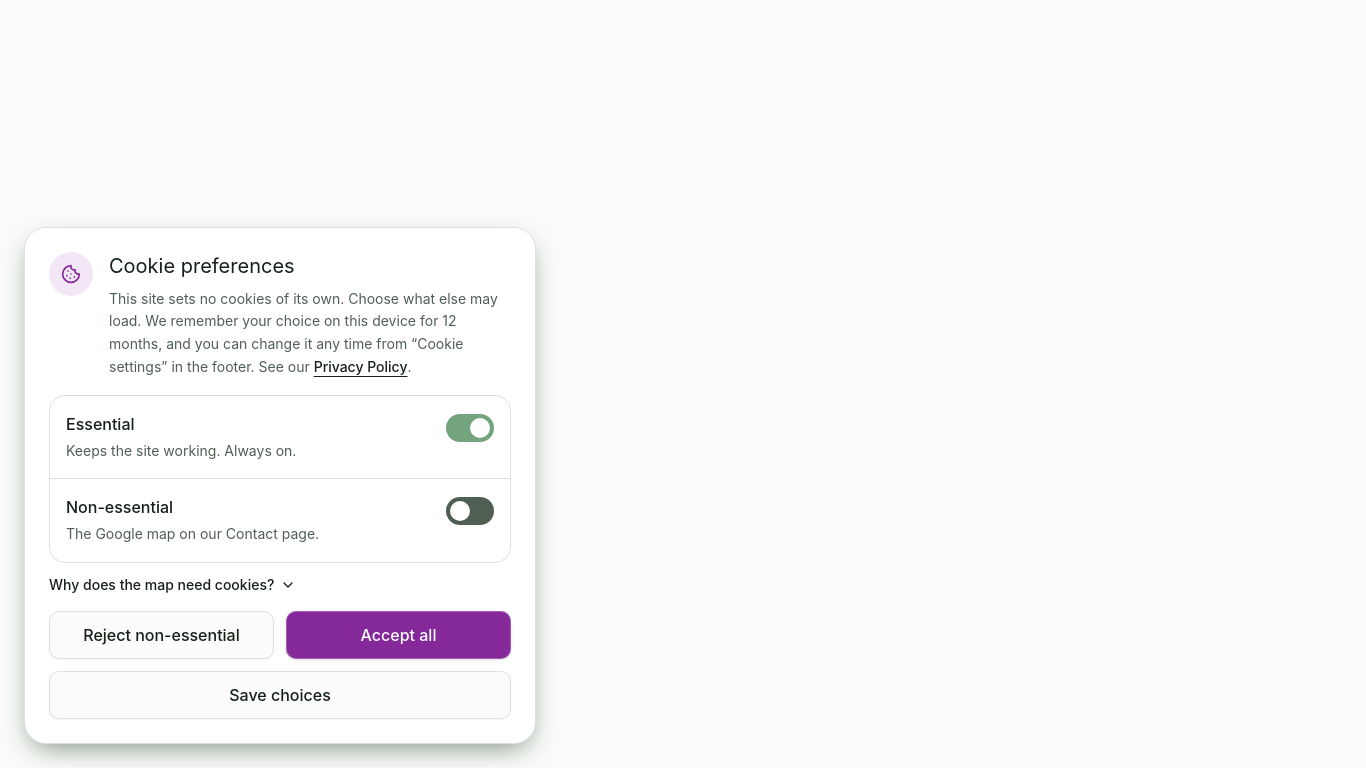
Scenario: CookieBanner › shows the Google map reasoning when Non-essential is turned on
The image size is (1366, 768).
Click the 2nd switch named "Non-essential".
click(470, 511)  # box [446,497,494,525]
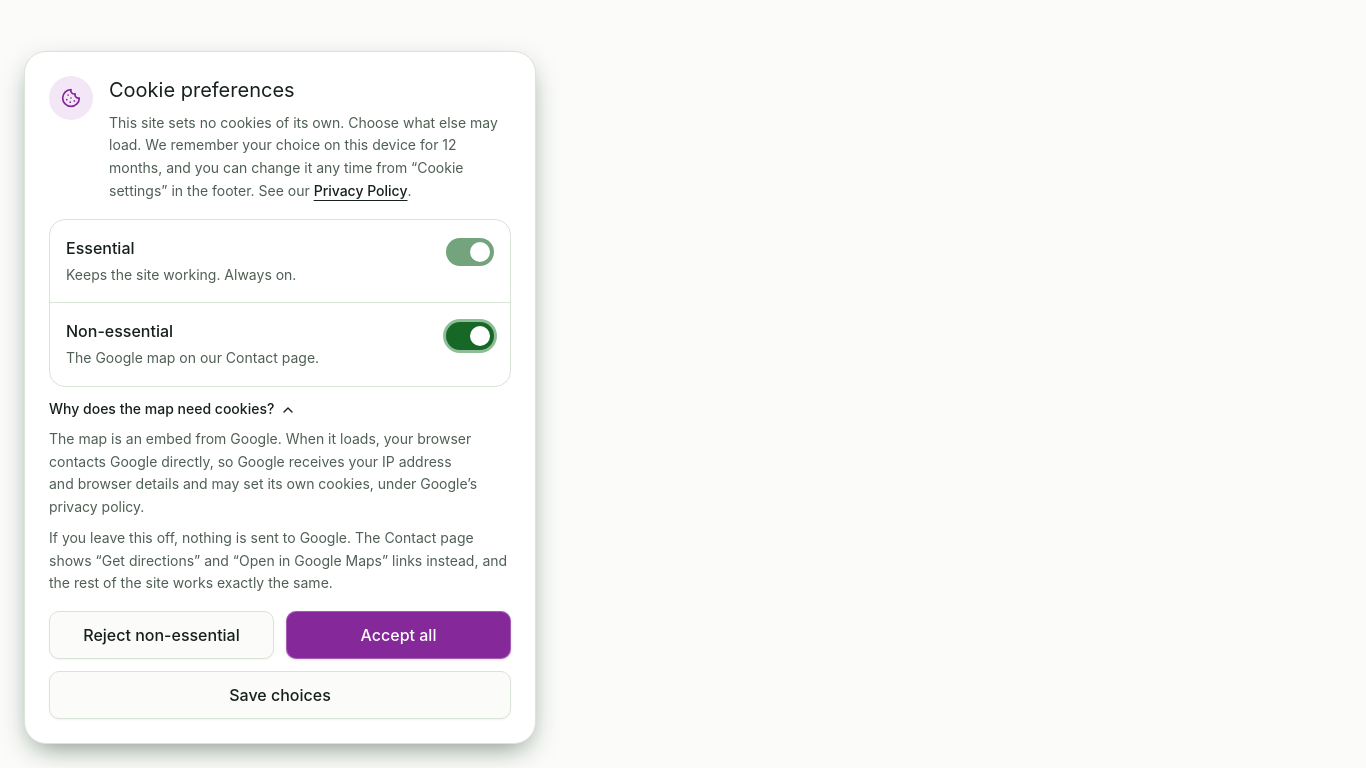
Expected: the 2nd switch named "Non-essential" is checked, [446,322,494,350]
Expected: the text "Google receives your IP address" is shown, [49,430,477,515]
Expected: the button "Why does the map need cookies?" is expanded, [49,400,296,420]
